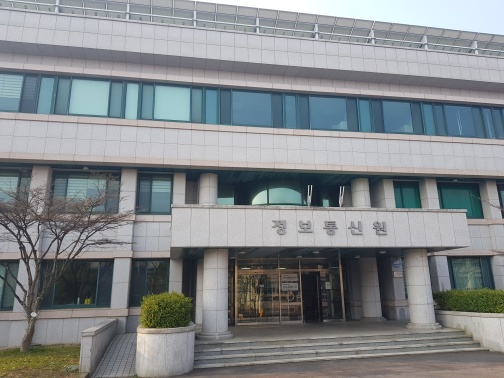Information Telecommunication Center: (4, 3, 501, 307), (219, 164, 425, 329), (230, 255, 380, 324), (268, 205, 402, 250)
